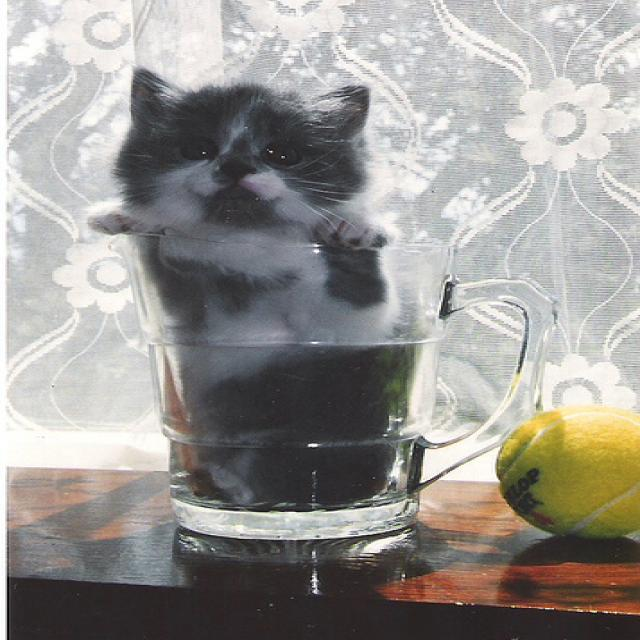left eye: (260, 140, 303, 168)
